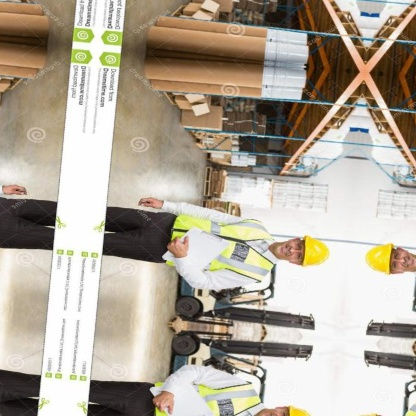vest: (161, 205, 286, 283)
yellow: (299, 233, 334, 269)
